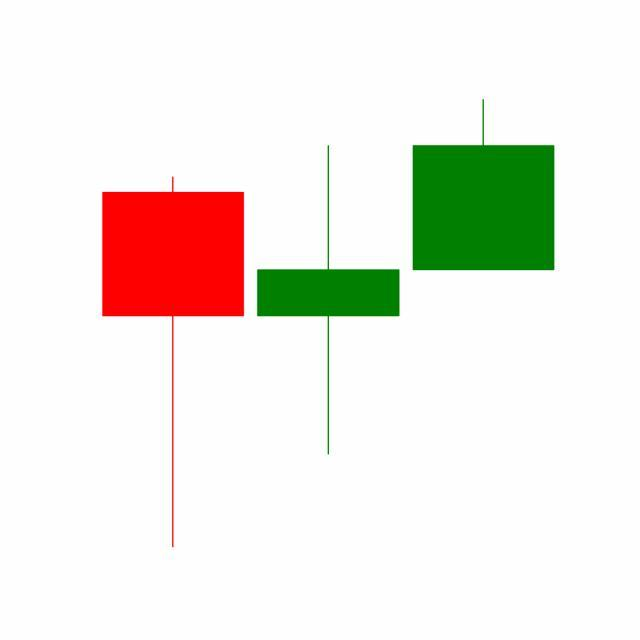Spinning Top: (250, 143, 407, 459)
